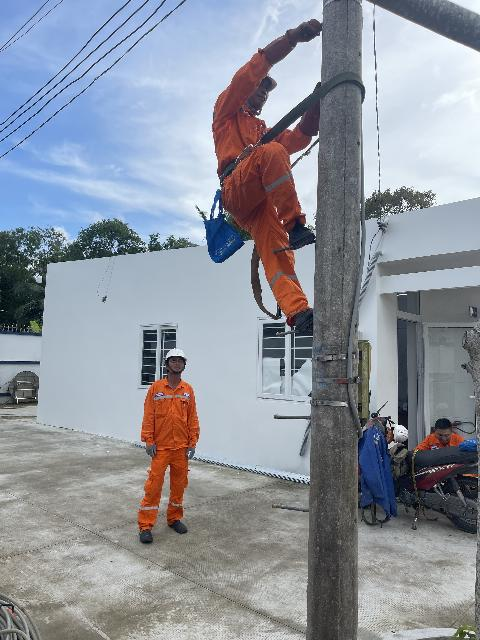gloves: (260, 19, 333, 64), (296, 76, 335, 142), (137, 441, 165, 461), (185, 443, 207, 465)
helmet: (248, 56, 285, 107), (281, 212, 330, 247), (288, 305, 325, 333), (165, 517, 198, 539), (158, 347, 191, 366), (138, 525, 155, 544)
